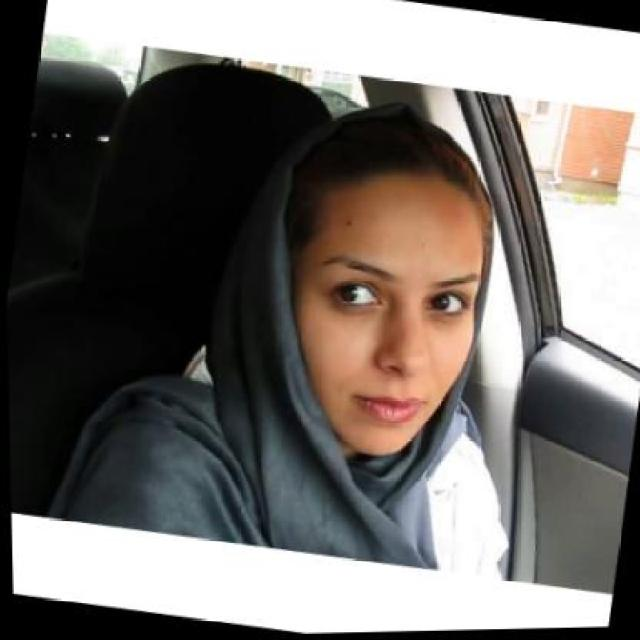attentif: (242, 89, 509, 472)
